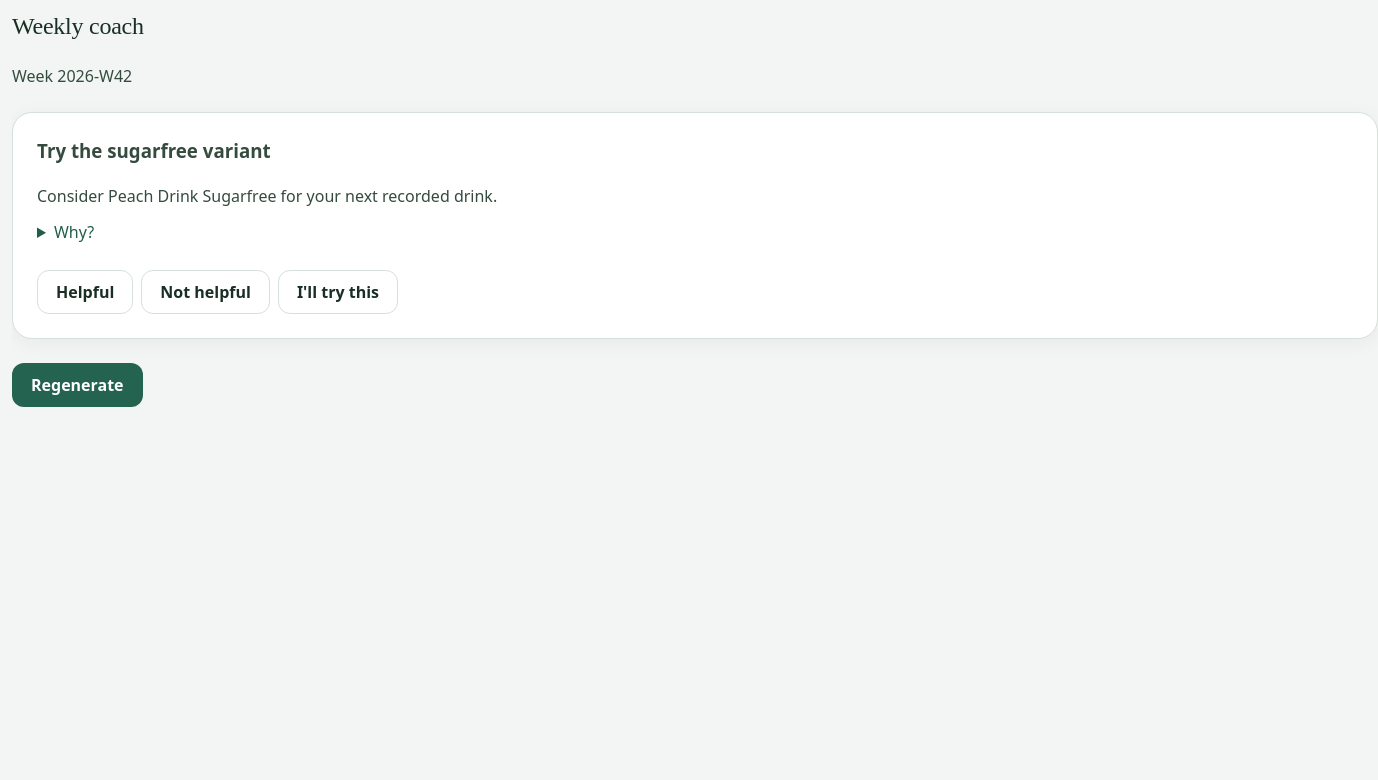
it: why_lists_cited_facts_and_swaps_from_the_stored_review
This screenshot has width=1378, height=780.
Click the heading "Why?": [74, 232] box 54,221 -> 94,243
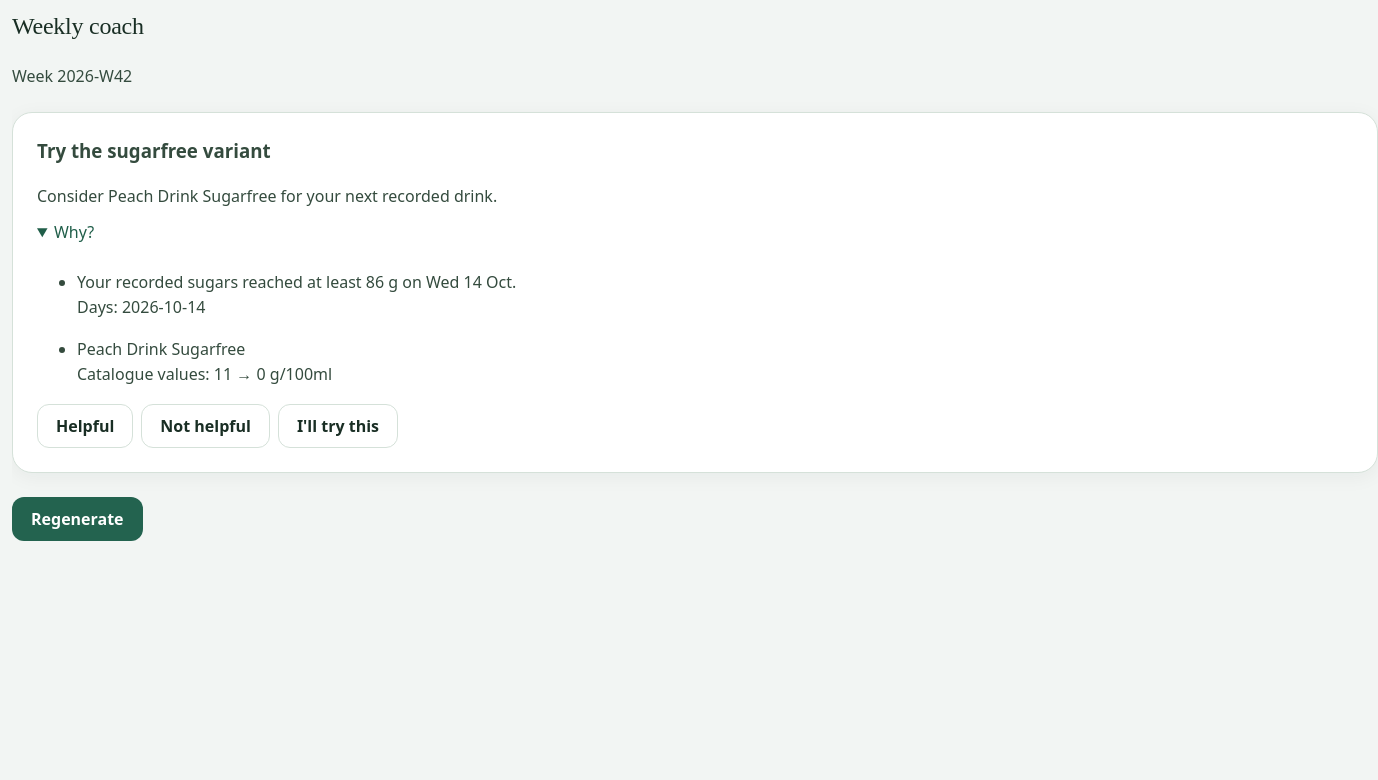
Expected: the text "Your recorded sugars reached at least 86 g on Wed 14 Oct." is shown, 77,271 -> 516,293
Expected: the text "Peach Drink Sugarfree" is shown, 77,338 -> 245,360
Expected: the text "Catalogue values: 11 → 0 g/100ml" is shown, 77,364 -> 332,386
